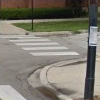crosswalk: (0, 34, 79, 56), (0, 84, 27, 100)
